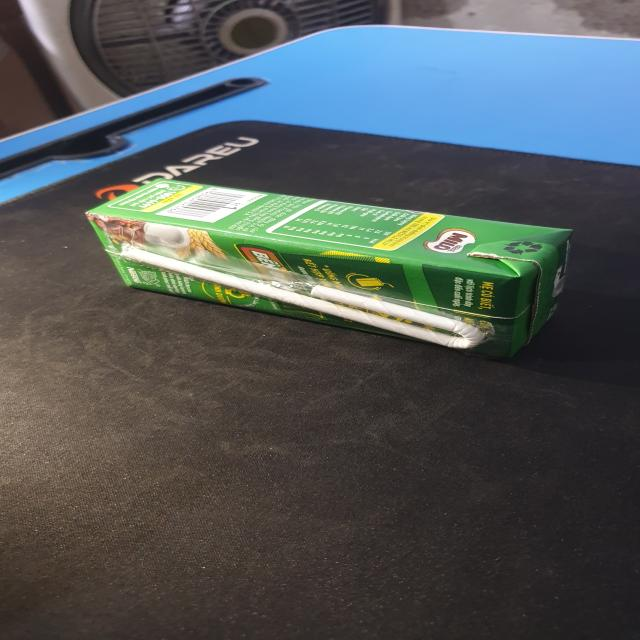Milo: (86, 179, 580, 361)
